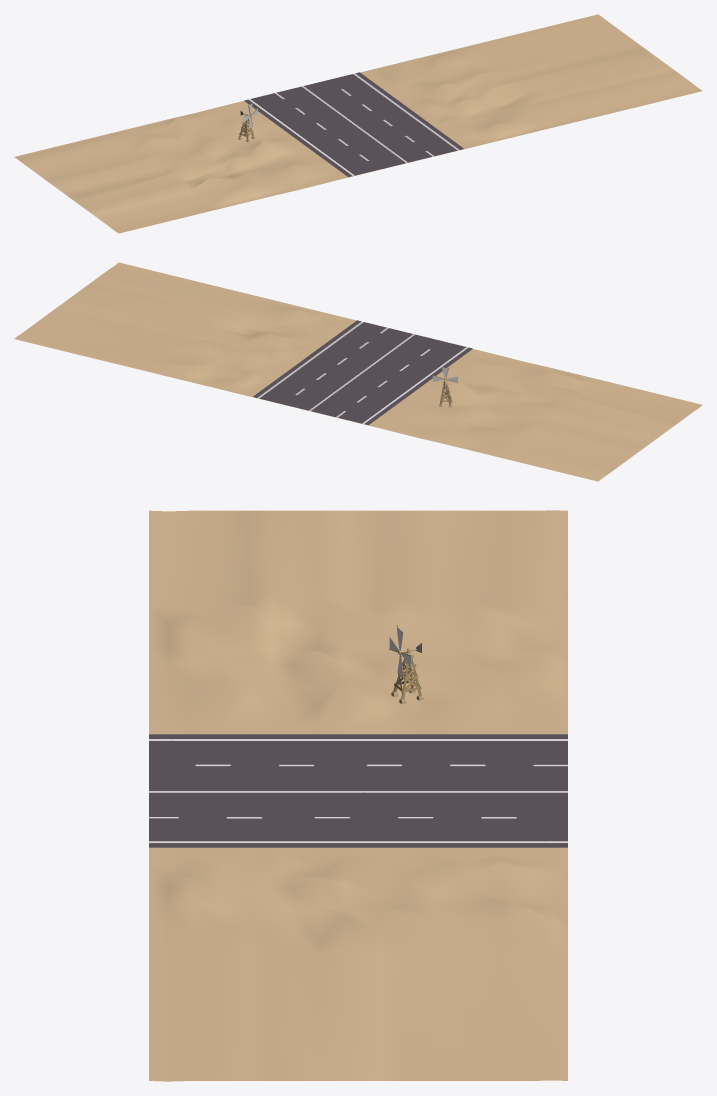
File: road.fbx
The picture shows the model from 3 angles, top to bottom: view 1: azimuth 30°, elevation 25°; view 2: azimuth 150°, elevation 25°; view 3: azimuth 270°, elevation 25°; orthographic projection. The views are drawn at different scales.
Parts seen in each view (by area): view 1: desert, road; view 2: desert, road; view 3: desert, road.
Part boxes in pixels (x1,y1,x2,y2): desert: (14,14,702,233); road: (244,72,463,177); desert: (14,262,702,481); road: (253,320,472,425); desert: (149,510,567,1081); road: (149,734,567,847).
Bounding box in the file's own units: 129 × 9.11 × 39.98.
8 materials, 1 textured.
